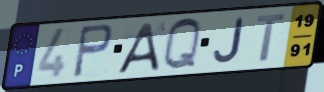4: (35, 25, 70, 81)
A: (114, 20, 161, 75)
J: (211, 16, 246, 65)
P: (71, 22, 115, 79)
Q: (161, 17, 203, 73)
T: (255, 12, 287, 64)
